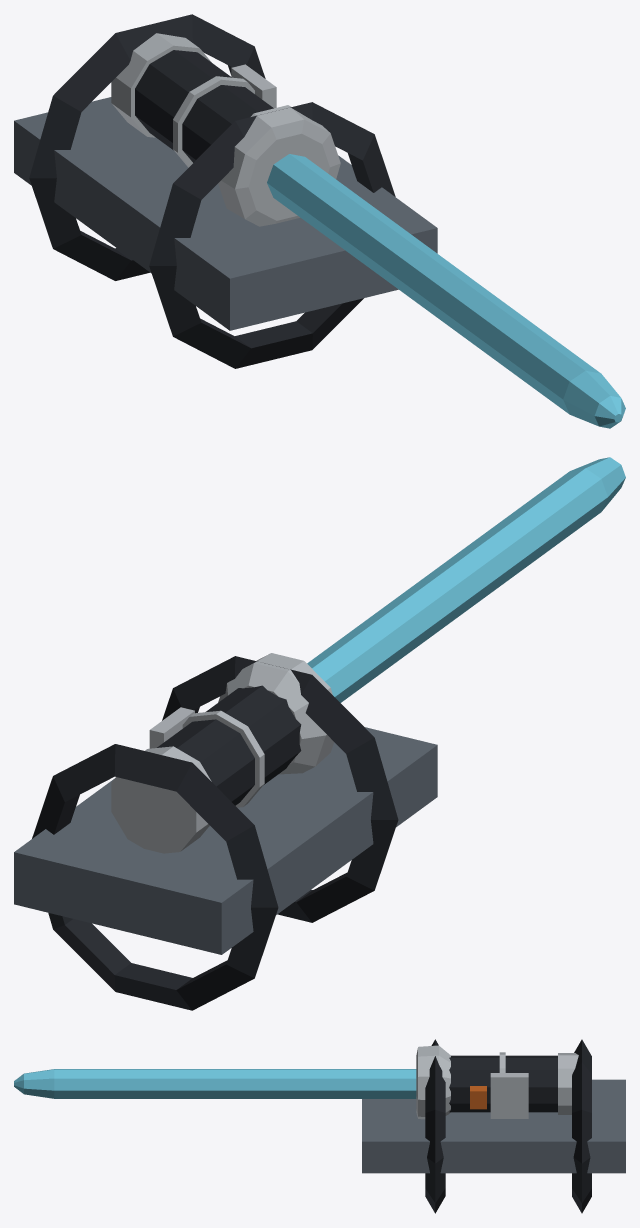
File: saber-wrist.glb
3 views of the same model, one above another, from view 1: azimuth 30°, elevation 25°; view 2: azimuth 150°, elevation 25°; view 3: azimuth 270°, elevation 25° (orthographic). The views are drawn at different scales.
Parts seen in each view (by area): view 1: m; view 2: m; view 3: m.
Part boxes in pixels (x1,y1,x2,y2): m: (14,14,625,428); m: (14,457,625,1010); m: (14,1039,625,1213).
Size of the model in its own units: 0.0557 by 0.053 by 0.1936.
